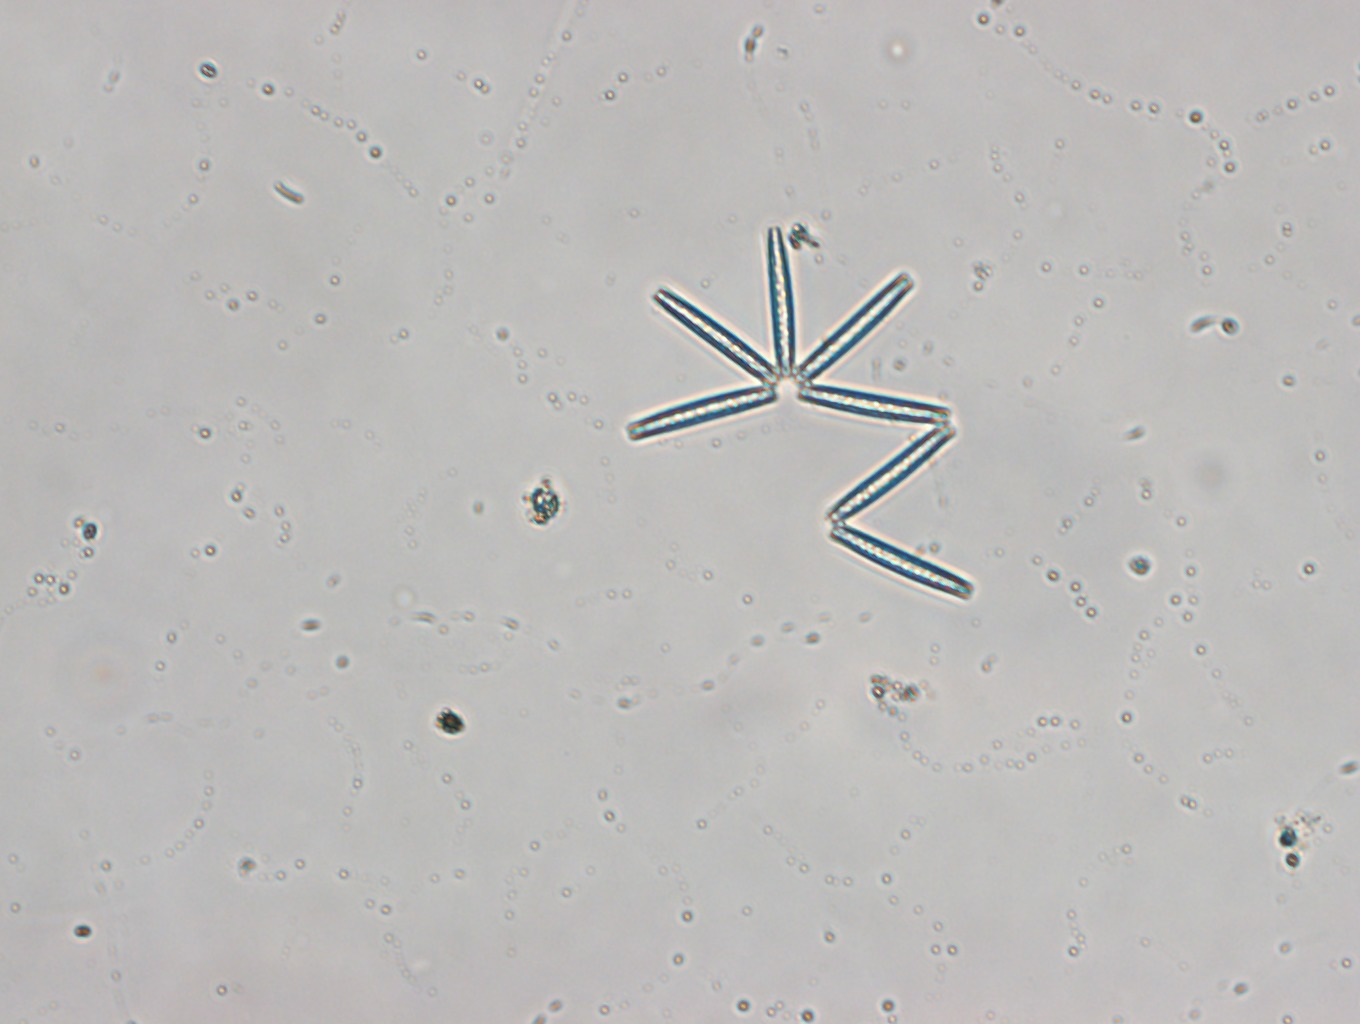thalassionema nitzschioides: (619, 226, 977, 602)
